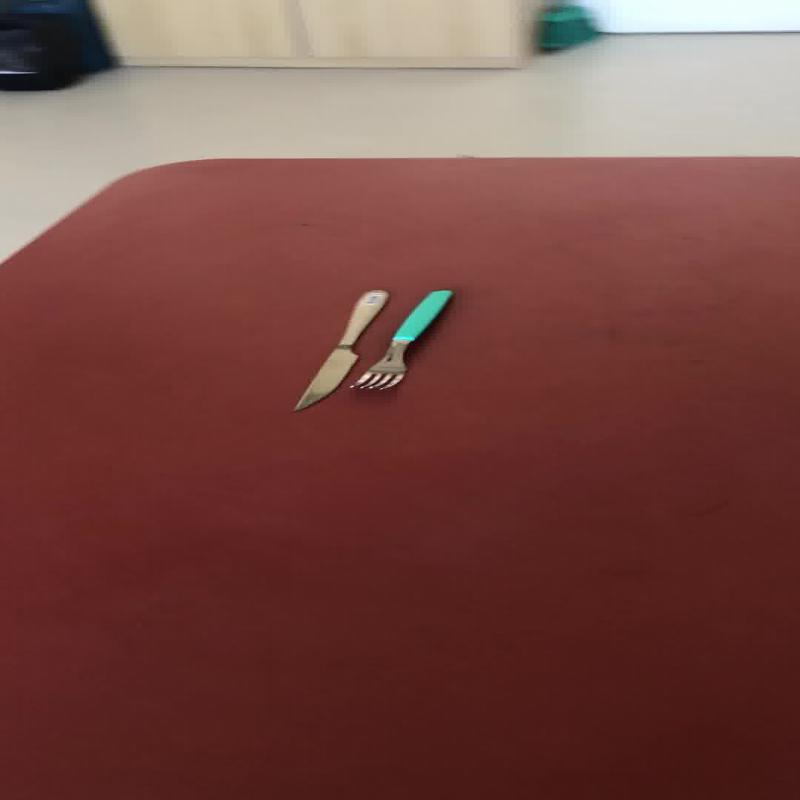fork: (348, 288, 453, 390)
knife: (290, 288, 390, 412)
